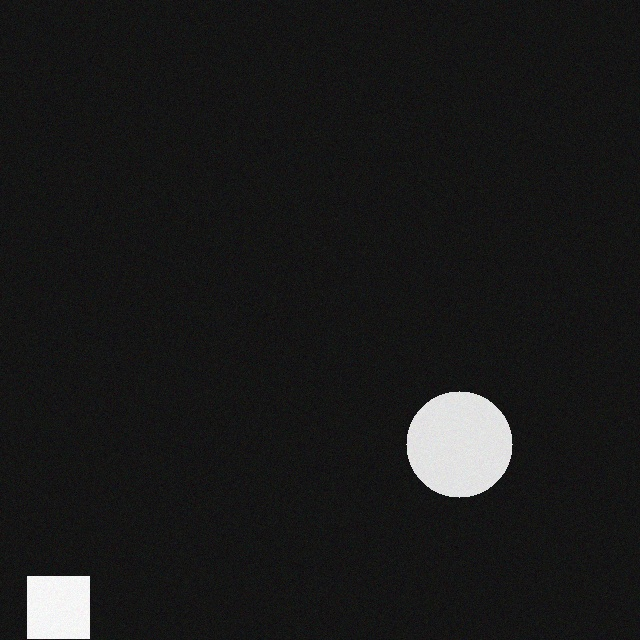circle: (402, 386, 508, 492)
square: (23, 571, 85, 633)
